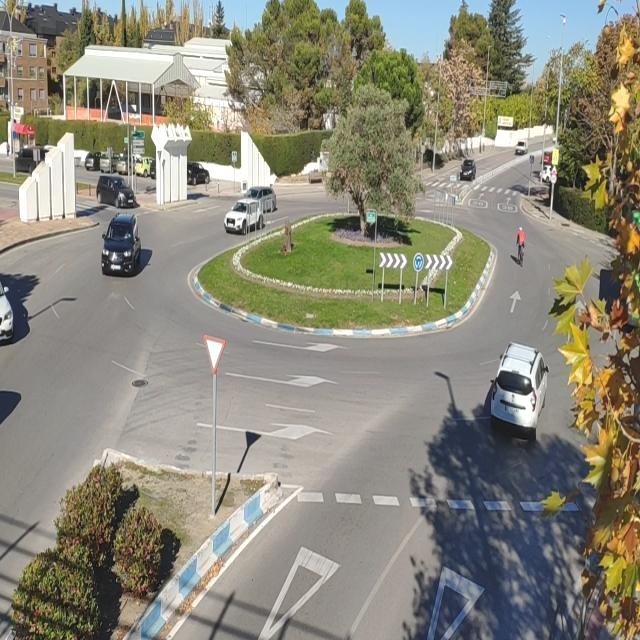Car: (489, 341, 549, 442), (100, 212, 142, 277), (222, 198, 266, 236), (96, 175, 136, 209), (15, 146, 50, 174), (244, 186, 277, 214), (0, 278, 14, 342), (187, 162, 210, 186), (99, 152, 122, 174), (117, 154, 139, 176), (84, 151, 104, 171), (136, 156, 154, 178), (459, 159, 476, 181), (540, 164, 554, 184), (514, 141, 528, 155), (149, 158, 157, 179), (540, 150, 552, 163)
Cycle: (516, 240, 525, 268)
